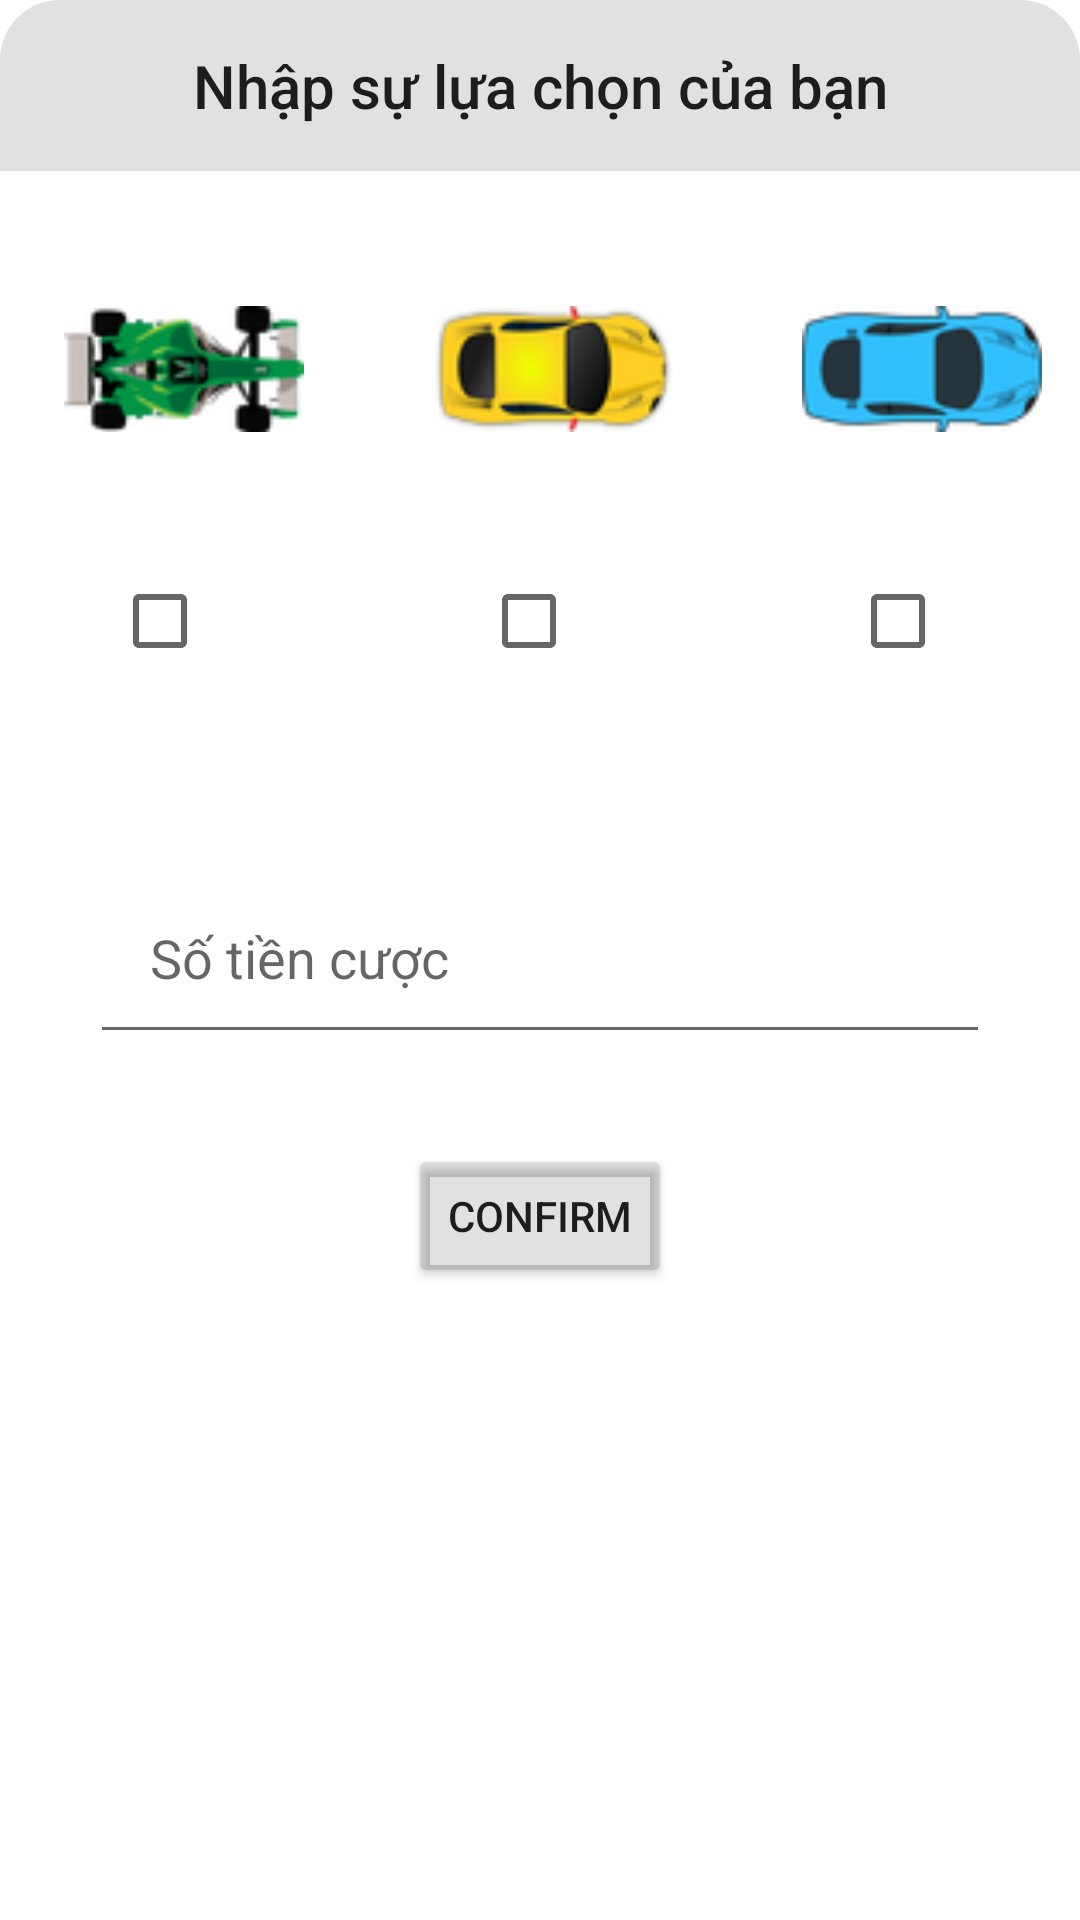

Where icons sit on this 1080×1920 app screen, as {"x1": x1, "y1": y1, "x2": x2, "y2": y2}:
car: {"x1": 64, "y1": 306, "x2": 304, "y2": 432}, {"x1": 438, "y1": 306, "x2": 669, "y2": 432}, {"x1": 802, "y1": 306, "x2": 1042, "y2": 432}
